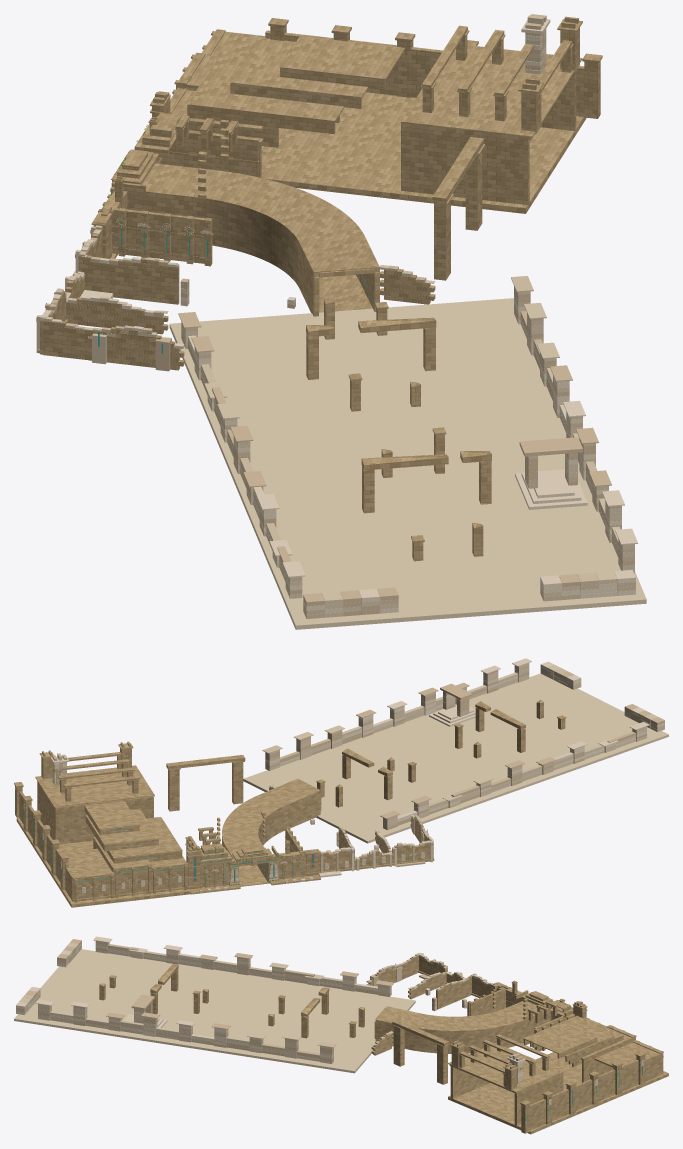
Rendered from RuinsFieldAlpha.obj.
The picture shows the model from 3 angles, top to bottom: view 1: azimuth 30°, elevation 25°; view 2: azimuth 150°, elevation 25°; view 3: azimuth 270°, elevation 25°; orthographic projection. The views are drawn at different scales.
Parts seen in each view (by area): view 1: Ruins_Field_Courtyard_NearProps; view 2: Ruins_Field_Courtyard_NearProps; view 3: Ruins_Field_Courtyard_NearProps.
Boxes of the visible parts, x1=… form: Ruins_Field_Courtyard_NearProps: x1=36, y1=14, x2=646, y2=629; Ruins_Field_Courtyard_NearProps: x1=14, y1=658, x2=668, y2=907; Ruins_Field_Courtyard_NearProps: x1=14, y1=936, x2=668, y2=1134.
Size of the model in its own units: 1119 by 182 by 1676.
Materials: 10 (10 with a texture image).
